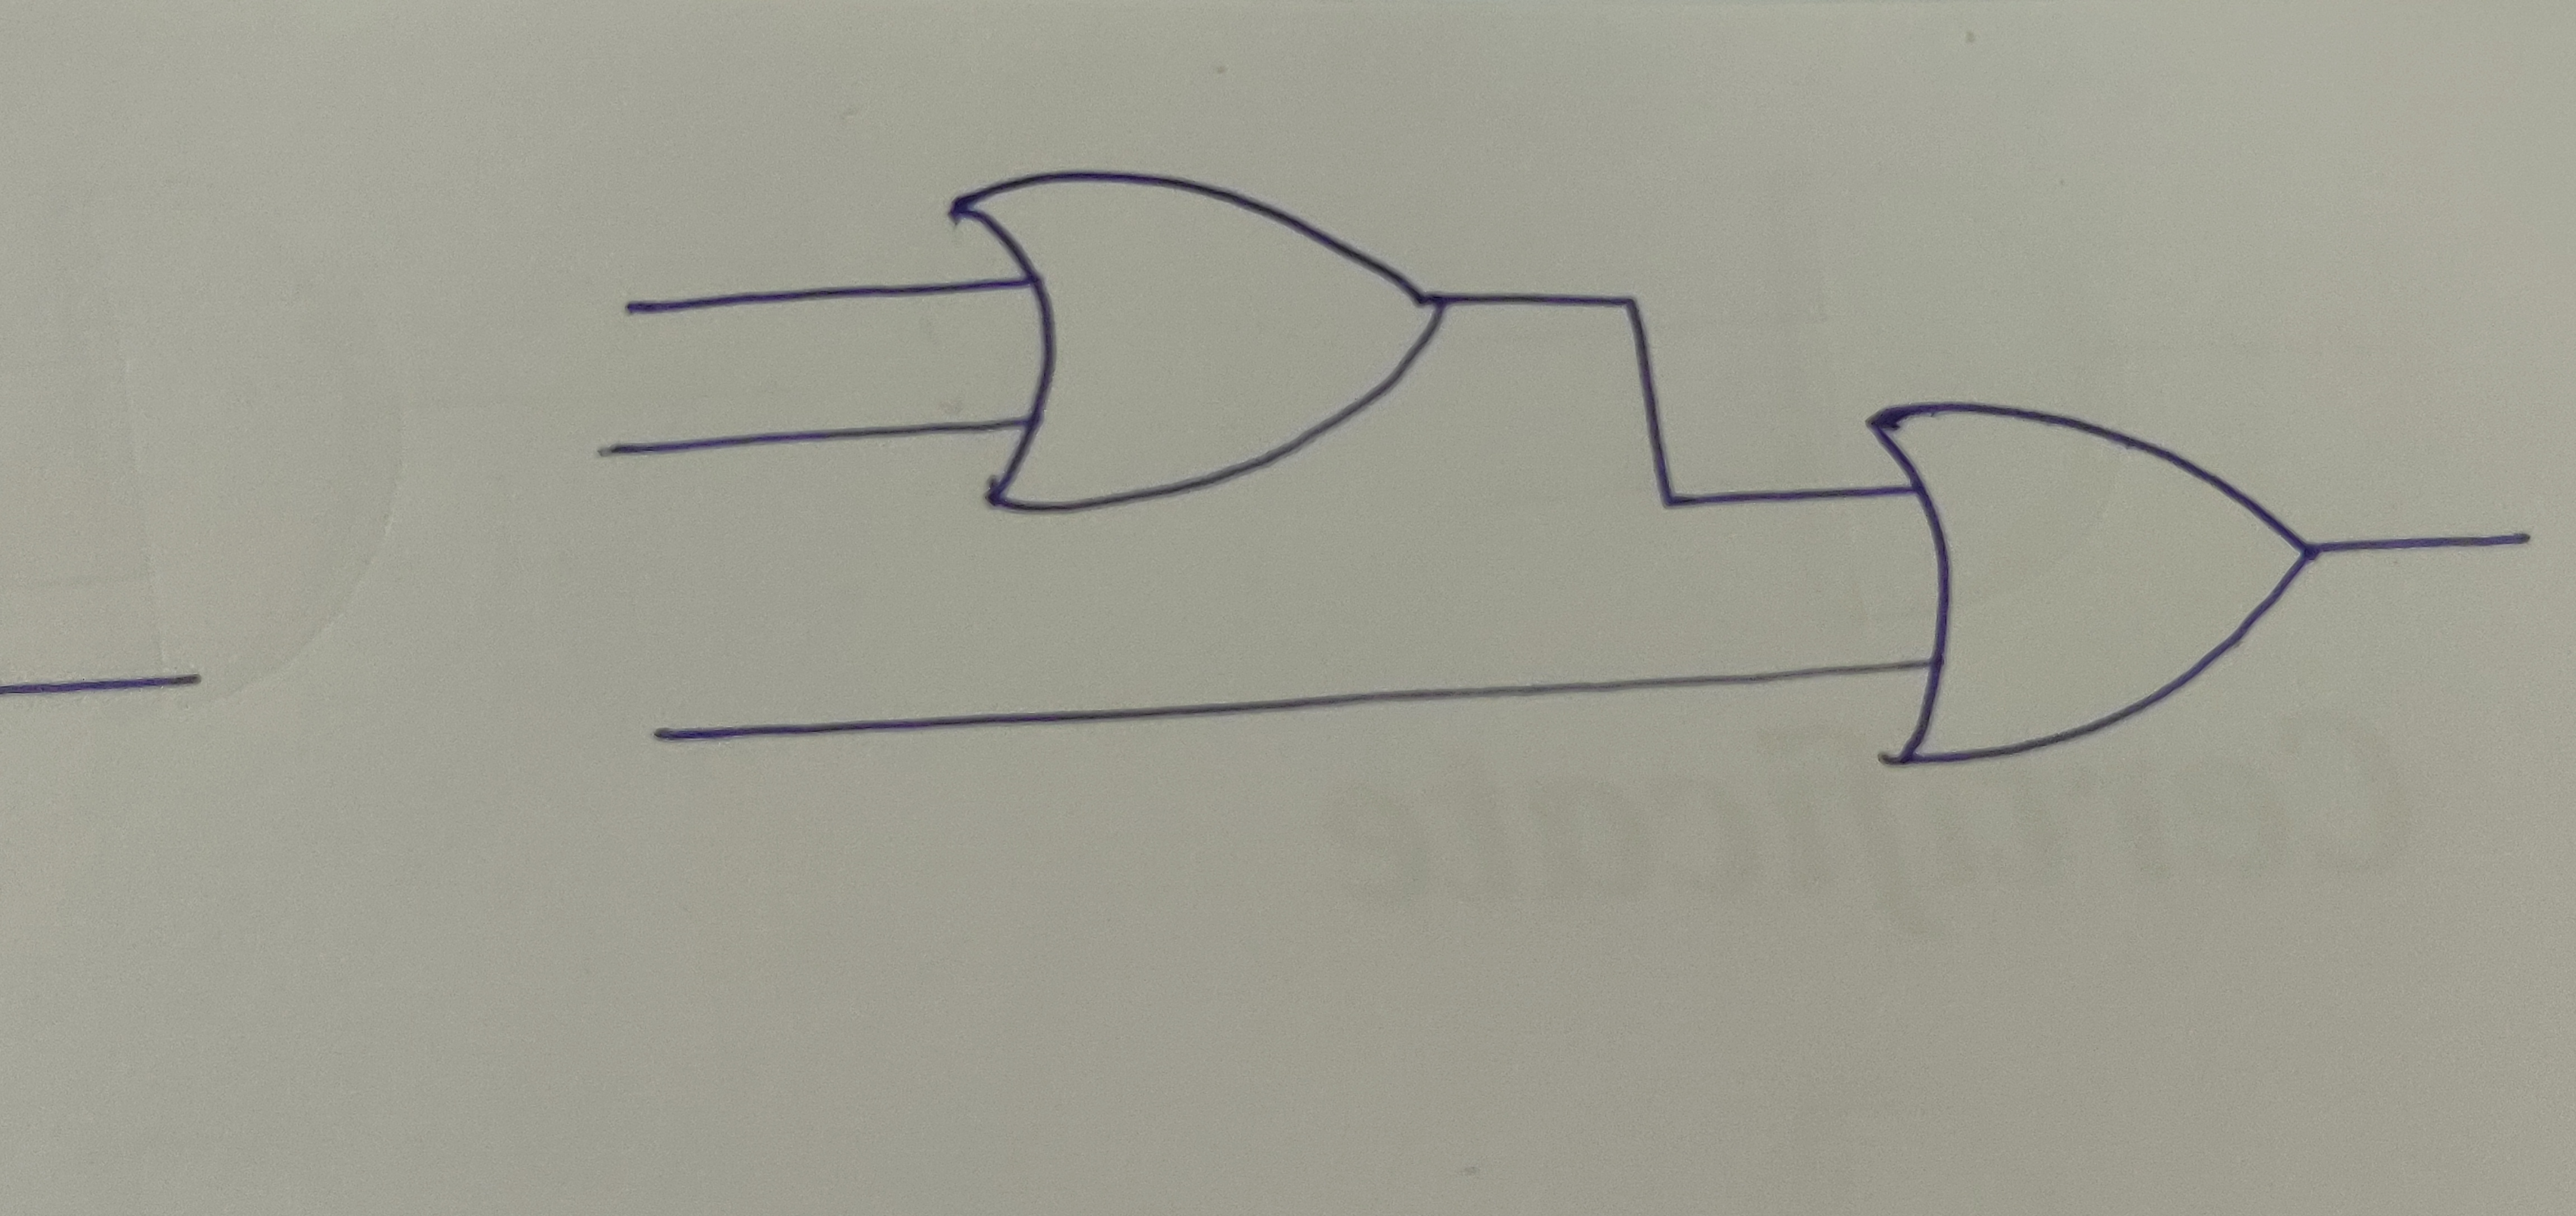or: (948, 169, 1447, 519), (1858, 398, 2315, 767)
